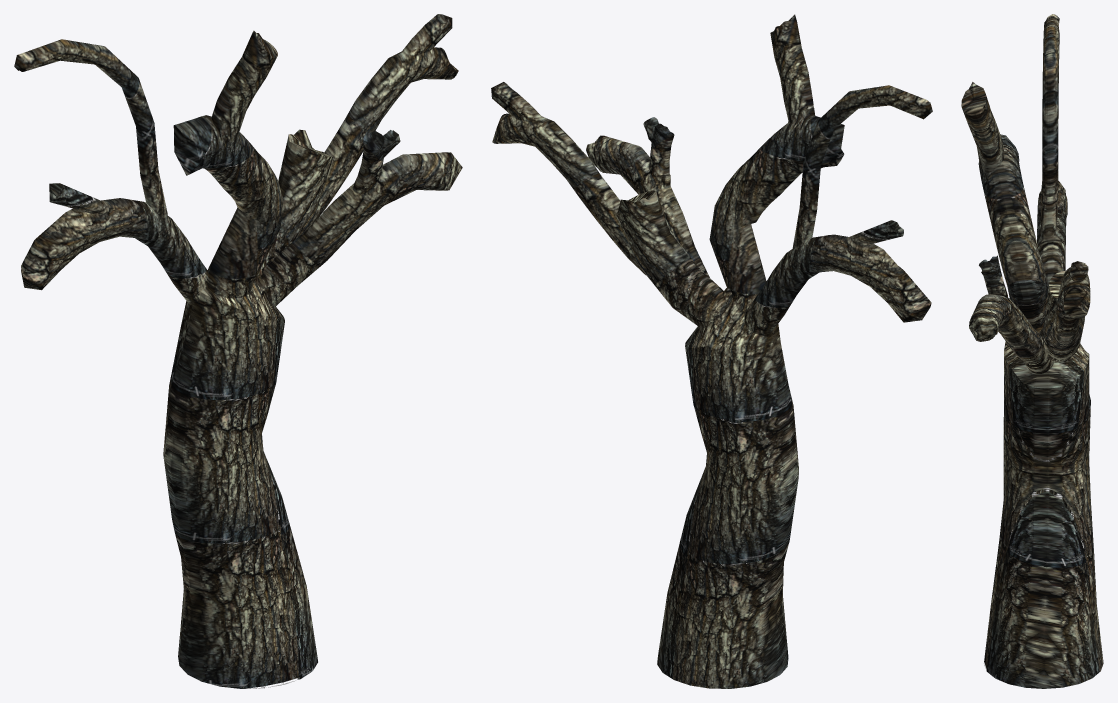
The model's file is tree_dark.obj.
3 views of the same model, side by side, from view 1: azimuth 30°, elevation 25°; view 2: azimuth 150°, elevation 25°; view 3: azimuth 270°, elevation 25° (orthographic). The views are drawn at different scales.
Parts seen in each view (by area): view 1: polySurface5; view 2: polySurface5; view 3: polySurface5.
Part boxes in pixels (<box>): polySurface5: <box>14,14,462,688</box>; polySurface5: <box>491,14,932,688</box>; polySurface5: <box>961,14,1103,688</box>.
Size of the model in its own units: 1.9 by 2.66 by 0.6042.
